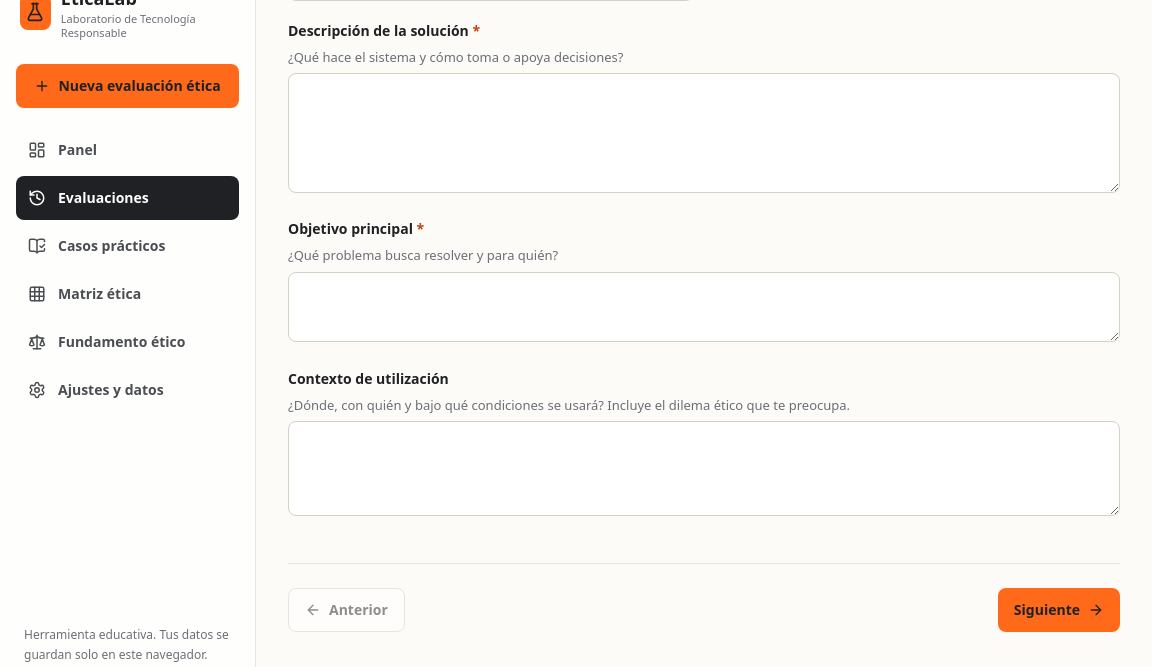
flujo completo de la aplicación › valida la primera etapa antes de avanzar
(page scrolled)
Click the button "Siguiente".
click(1059, 610)  # box [998,588,1120,632]
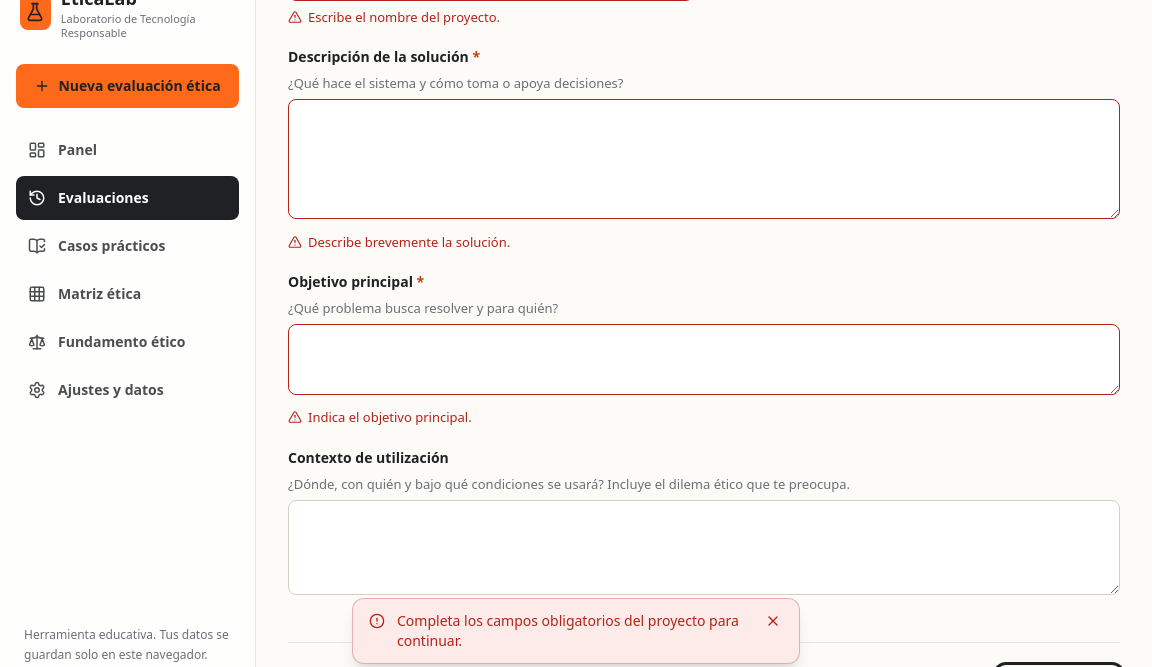
Now the text "Escribe el nombre del proyecto." is shown, box [288,8,500,26]
Now the text "Describe brevemente la solución." is shown, box [288,232,510,250]
